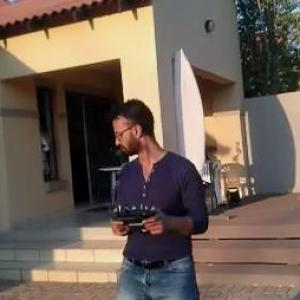follow: (105, 98, 210, 299)
